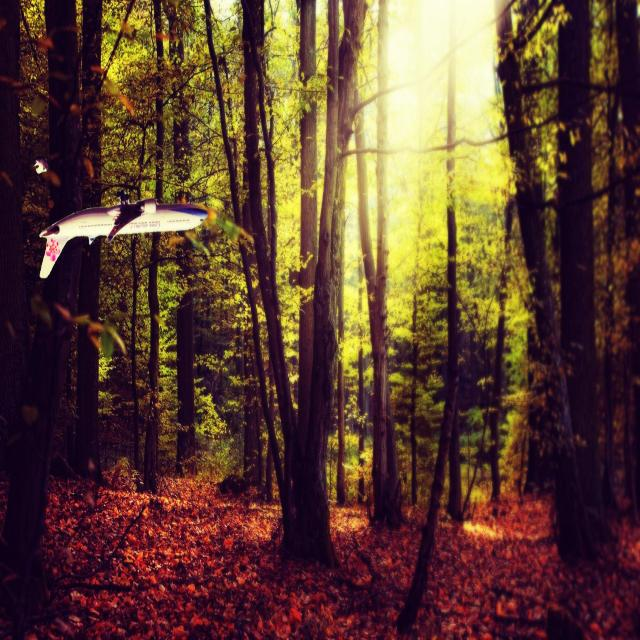airplane: (39, 197, 208, 279)
